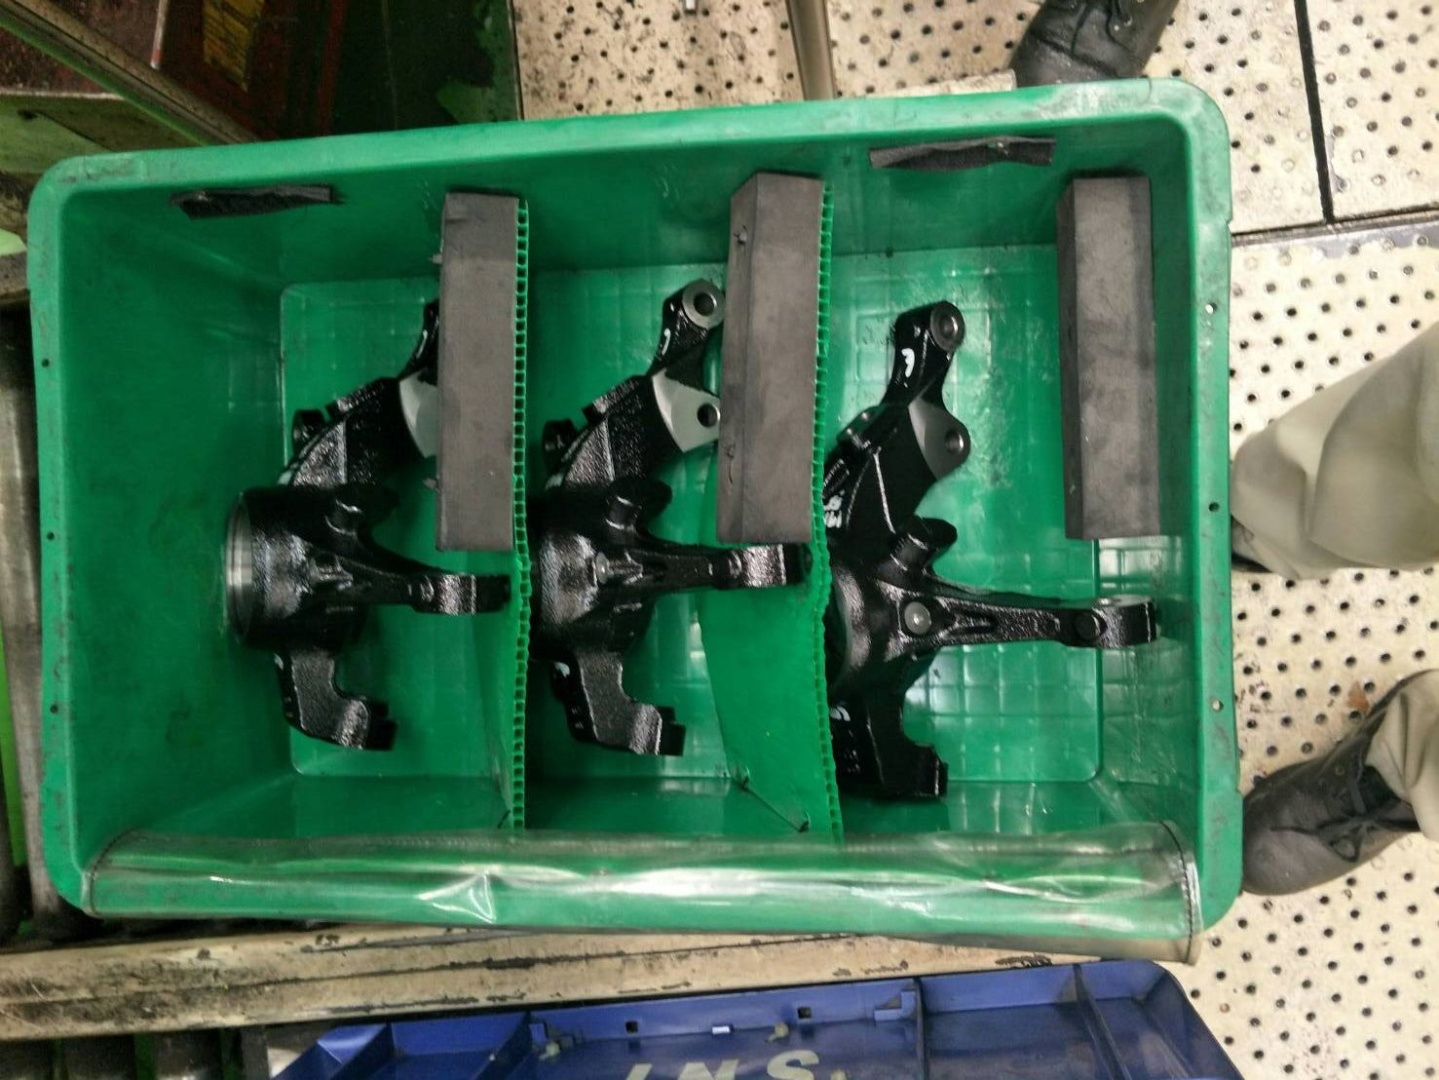non-lh: (811, 292, 1168, 821), (514, 273, 818, 774), (217, 288, 517, 767)
